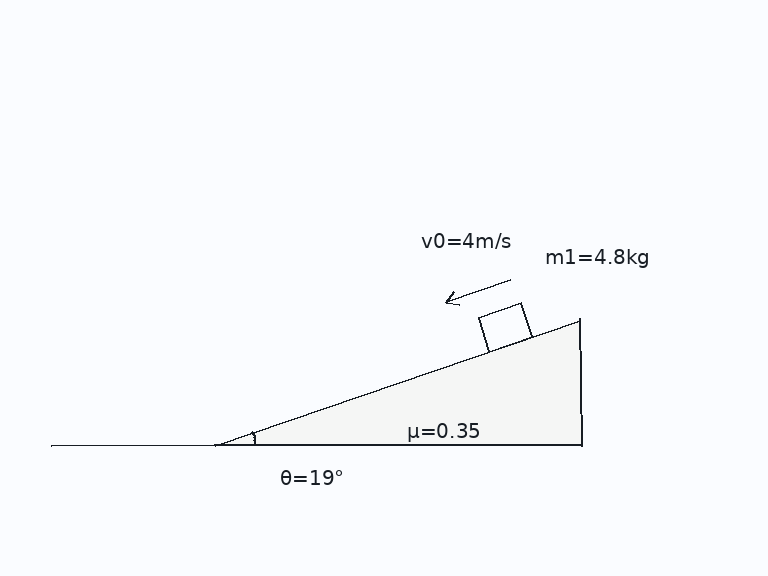block: (476, 302, 534, 353)
ramp: (213, 317, 583, 447)
